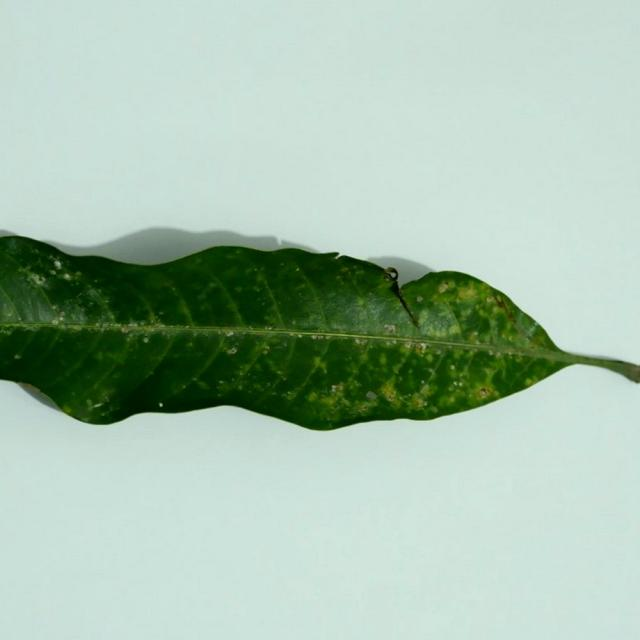Mango: (0, 235, 639, 430)
Powdery_Mildew: (53, 317, 187, 339), (476, 285, 522, 340), (21, 258, 69, 293), (373, 374, 410, 405), (391, 334, 442, 356), (288, 287, 316, 319), (16, 381, 49, 403), (315, 393, 344, 412), (354, 295, 371, 315), (313, 361, 329, 380), (4, 237, 23, 252), (407, 312, 420, 327), (354, 402, 371, 413), (308, 333, 329, 341), (383, 324, 396, 334), (438, 282, 449, 293), (335, 274, 345, 286), (62, 405, 73, 415), (332, 384, 343, 393), (1, 326, 12, 335), (469, 330, 479, 339), (102, 394, 112, 403), (366, 391, 377, 399), (197, 292, 208, 300), (479, 388, 488, 397), (157, 398, 166, 407), (355, 338, 366, 345), (276, 343, 287, 350), (334, 253, 342, 261), (486, 296, 495, 303), (234, 286, 243, 293), (228, 347, 236, 354), (525, 379, 533, 386), (285, 391, 294, 397), (262, 348, 269, 355), (86, 399, 93, 406), (182, 383, 189, 390), (453, 381, 461, 387), (416, 296, 424, 302), (101, 410, 109, 416), (404, 342, 411, 348), (429, 368, 436, 374), (383, 275, 390, 281), (265, 325, 273, 330), (52, 319, 58, 325), (489, 350, 495, 356), (59, 311, 65, 317), (238, 383, 244, 389), (280, 262, 286, 268), (14, 354, 21, 359), (5, 312, 12, 317), (158, 311, 164, 316), (450, 365, 455, 370), (292, 320, 297, 325), (262, 299, 266, 305), (295, 267, 300, 271), (297, 334, 302, 338), (17, 317, 22, 321), (94, 279, 99, 283), (421, 380, 425, 384), (219, 381, 224, 384)
